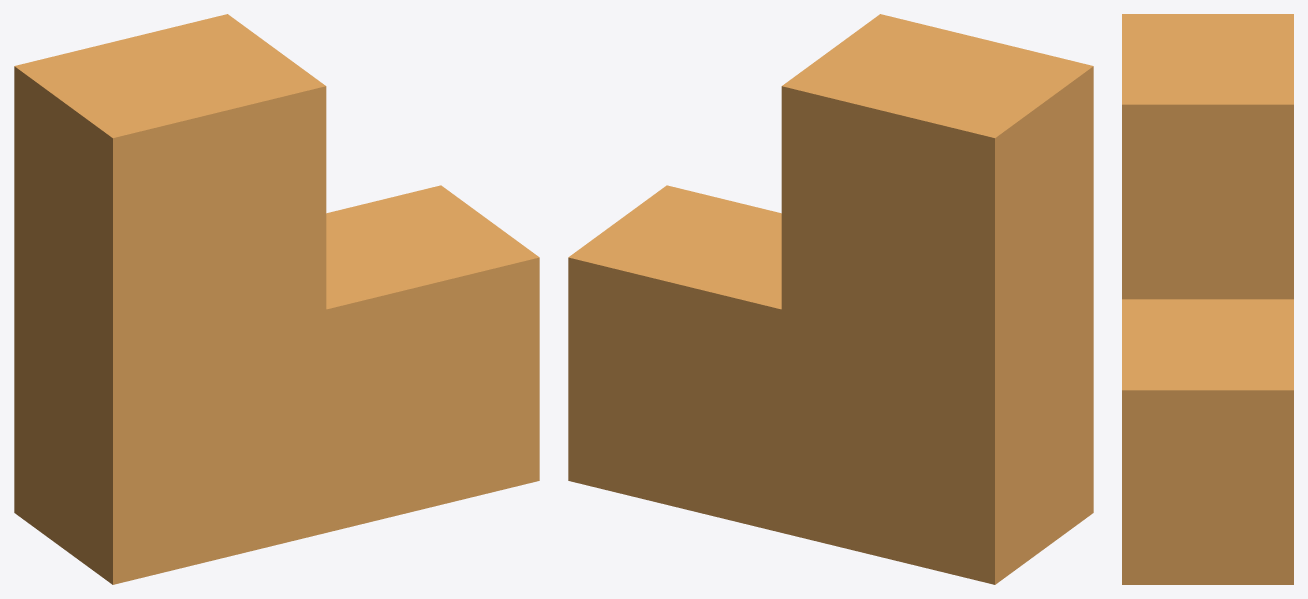
File: demo_gltf.glb
3 views of the same model, side by side, from view 1: azimuth 30°, elevation 25°; view 2: azimuth 150°, elevation 25°; view 3: azimuth 270°, elevation 25° (orthographic). The views are drawn at different scales.
Parts seen in each view (by area): view 1: mesh_0; view 2: mesh_0; view 3: mesh_0.
Part boxes in pixels (box(x1,y1,x2,y2)): mesh_0: box(14, 14, 539, 584); mesh_0: box(568, 14, 1093, 584); mesh_0: box(1122, 14, 1293, 584).
Bounding box in the file's own units: 2 × 2 × 0.8.
